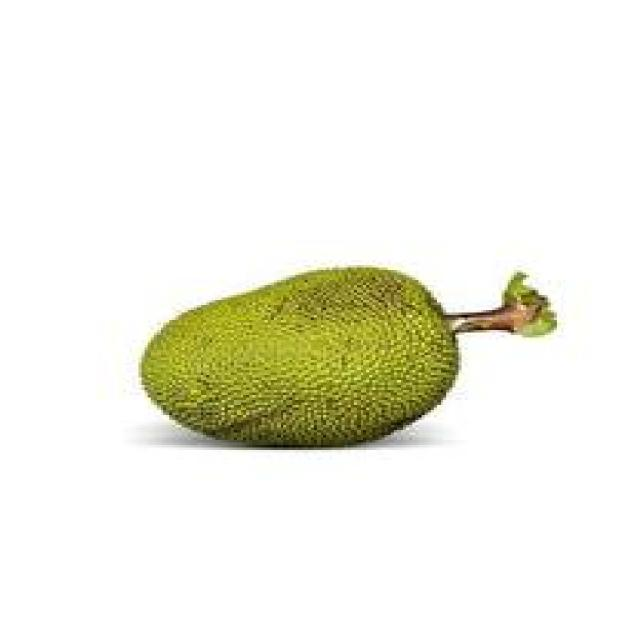Fruit: (126, 250, 477, 468)
